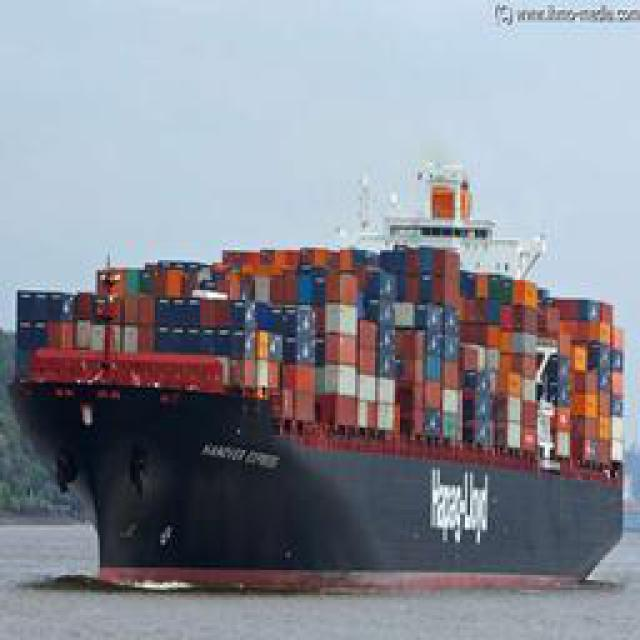Ship: (6, 143, 640, 598)
